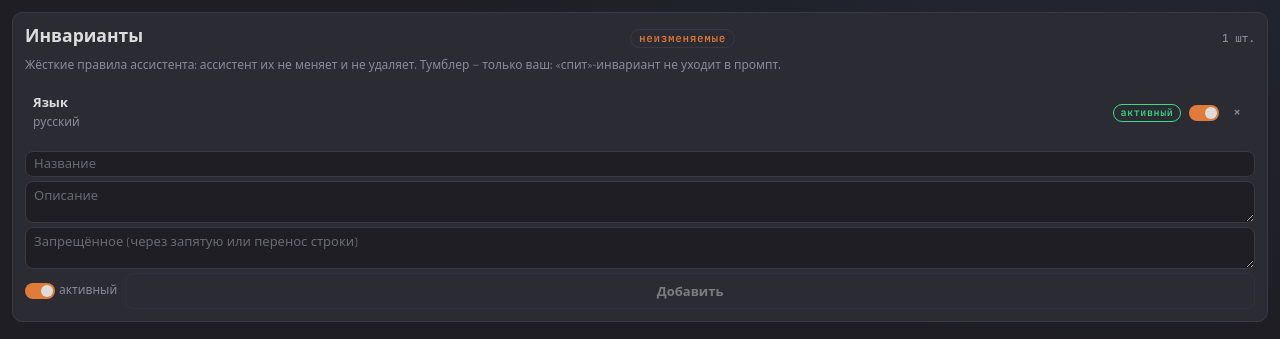
Scenario: InvariantsTab — тумблер is_active › клик по свитчу строки → POST /api/invariants/{id}/toggle; после перечитывания — «спит»
Expected: the text "Язык" is shown, [33,95,68,111]
Click the switch named "Выключить Язык".
click(1204, 113)  # box [1189,105,1219,121]
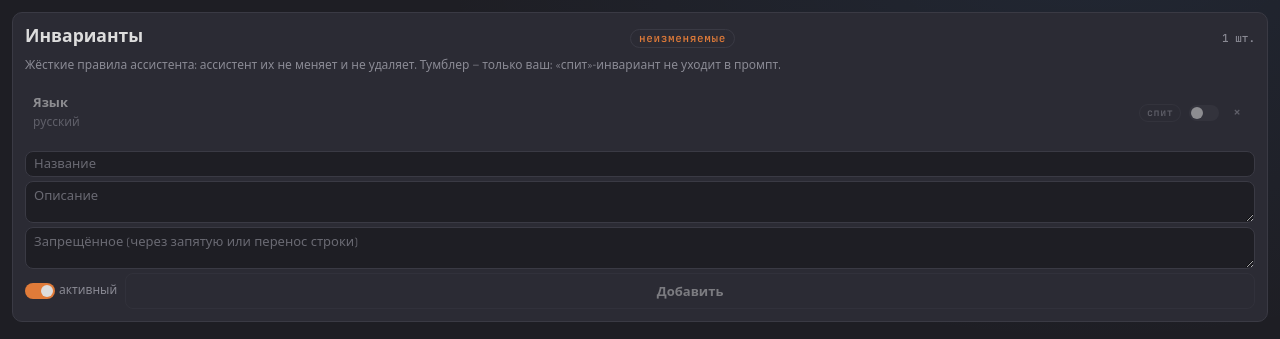
Expected: the text "спит" is shown, [1139,104,1181,122]
